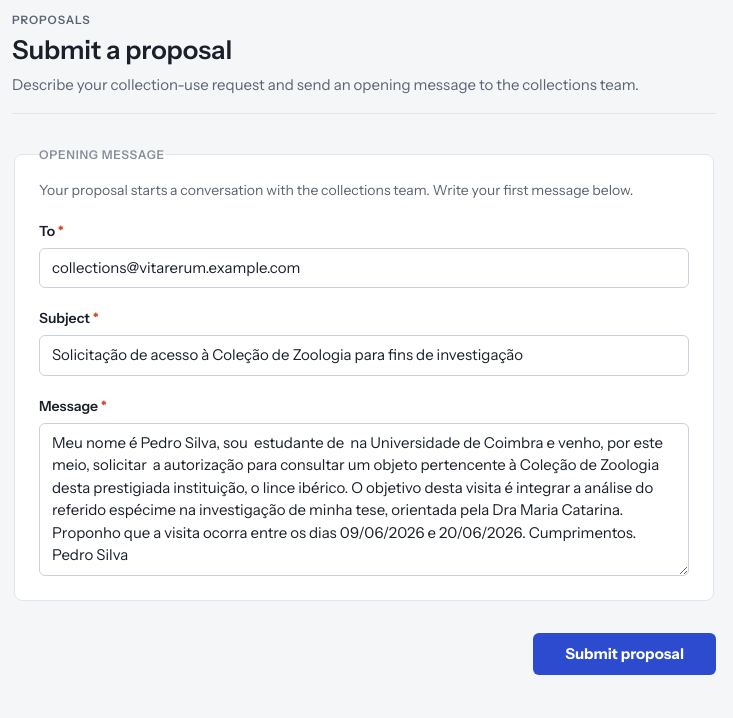
Test: ProposalSubmitPageComponent › blocks submission when the opening message is incomplete
Clear the field with id "subject" at [364, 356], box 39,336 -> 689,376
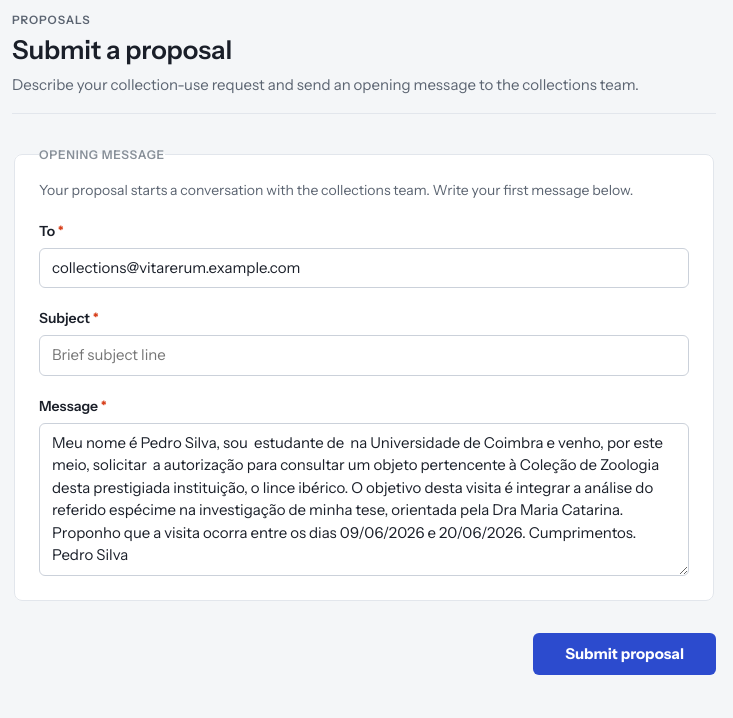
Submit the form
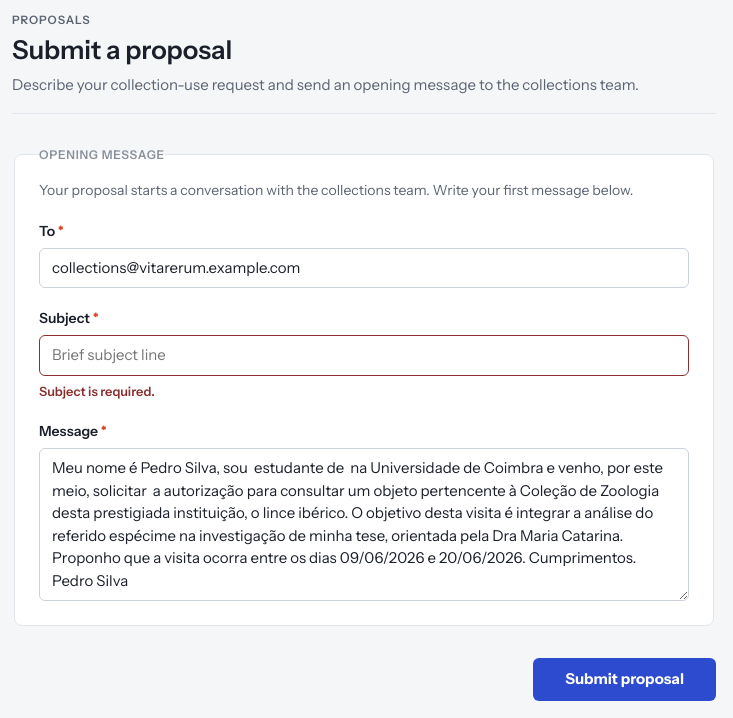
expect the text "Subject is required." is shown: met, box 39,384 -> 155,399
